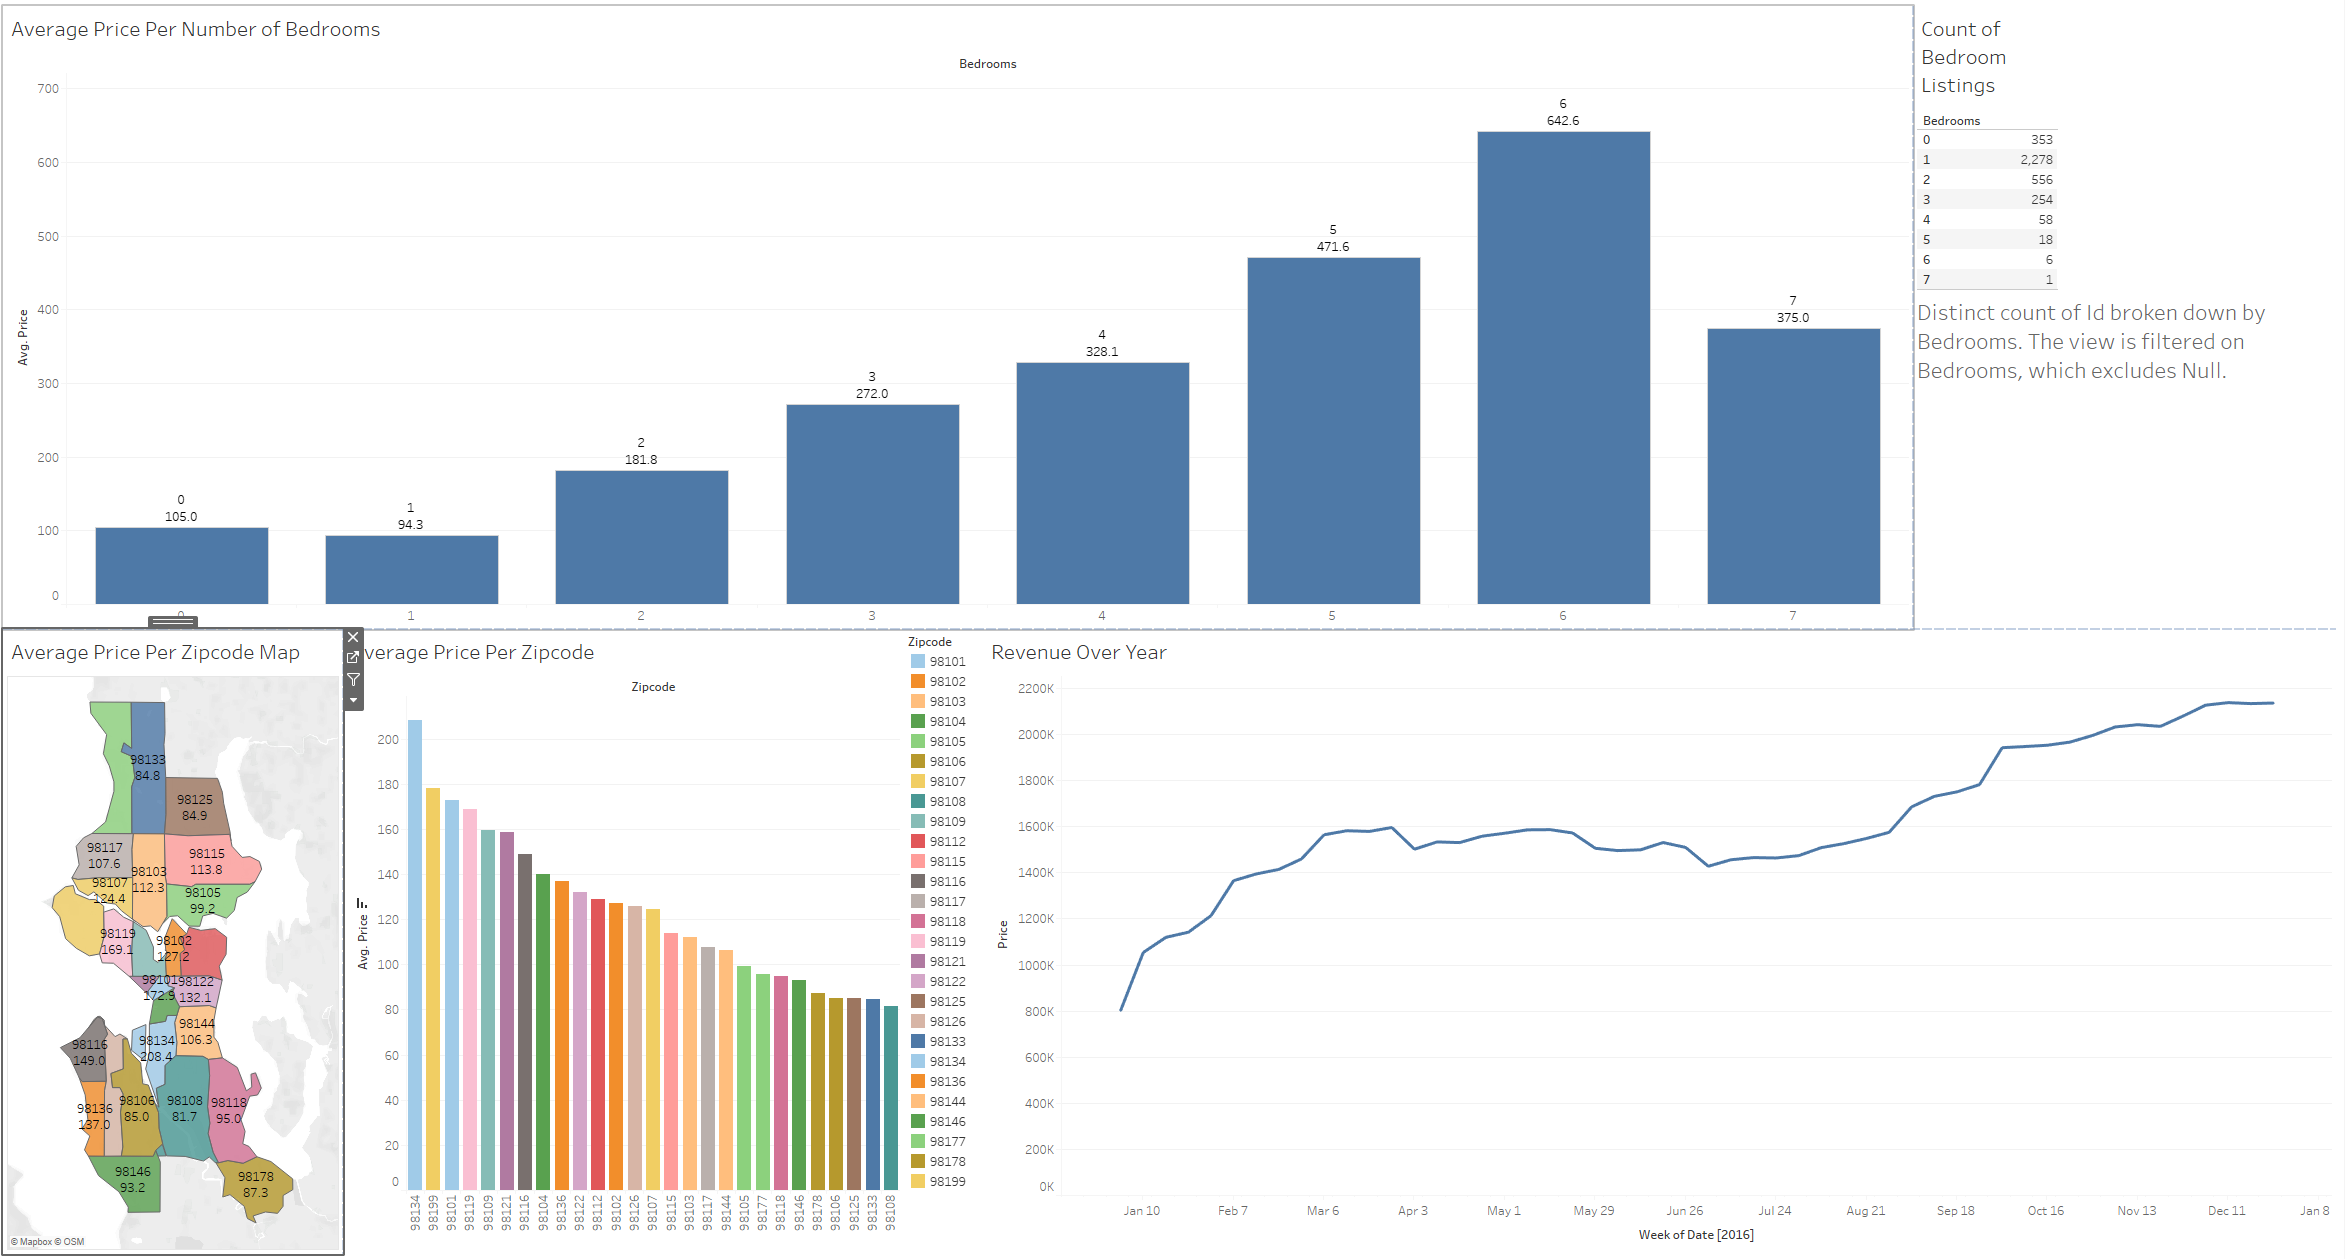

This screenshot's page, from the dashboard's own definition file:
{"tool":"tableau","page":{"name":"Dashboard 1","canvas":[1000,1000],"units":"permille","ordinal":0},"visuals":[{"type":"worksheet","title":"Sheet 4","mark":"Automatic","rows":["price"],"cols":["bedrooms"],"box":[7.7,6.4,806.1,493.2]},{"type":"worksheet","title":"Sheet 5","mark":"Automatic","rows":["bedrooms"],"box":[813.8,6.4,178.5,493.2]},{"type":"worksheet","title":"Sheet 2","mark":"Multipolygon","box":[7.7,499.5,143.3,494.1]},{"type":"worksheet","title":"Sheet 1","mark":"Automatic","rows":["price"],"cols":["zipcode"],"box":[151,499.5,26.9,494.1]},{"type":"legend","title":"Sheet 1","param":"[federated.0k1dwm30v0ybf91euzdpo1kxto8d].[none:zipcode:ok]","box":[177.9,499.5,3.8,494.1]},{"type":"worksheet","title":"Sheet 3","mark":"Automatic","rows":["price"],"cols":["date"],"box":[181.7,499.5,810.6,494.1]}]}

Visuals, with their boxes on the dashboard's canvas, which has no fixed pixel size, in thousandths of its width and height (x1, y1, x2, y2). These are canvas units, not pixel positions in the 2345x1259 screenshot, which may show the page scaled, cropped or inside an application window:
"Sheet 4" worksheet: box(8, 6, 814, 500)
"Sheet 5" worksheet: box(814, 6, 992, 500)
"Sheet 2" worksheet (Multipolygon marks): box(8, 500, 151, 994)
"Sheet 1" worksheet: box(151, 500, 178, 994)
"Sheet 1" legend: box(178, 500, 182, 994)
"Sheet 3" worksheet: box(182, 500, 992, 994)
